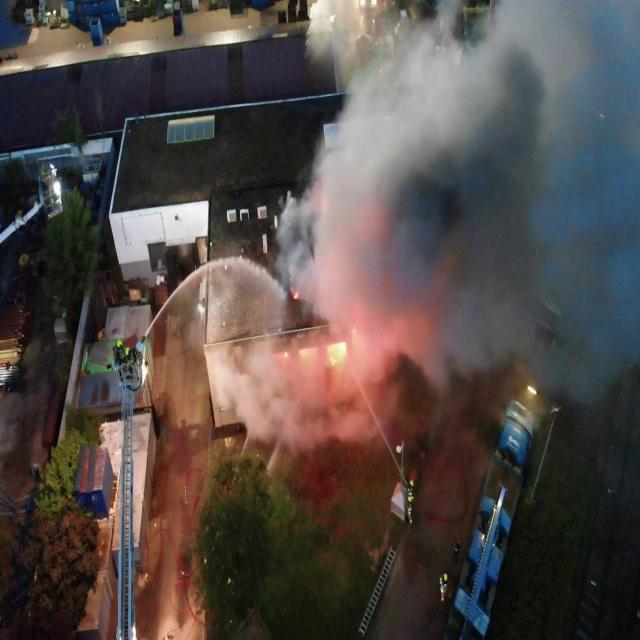Fire: (338, 342, 346, 354), (330, 357, 337, 367), (294, 293, 298, 299), (284, 352, 288, 357)
Smoke: (185, 0, 640, 452)
